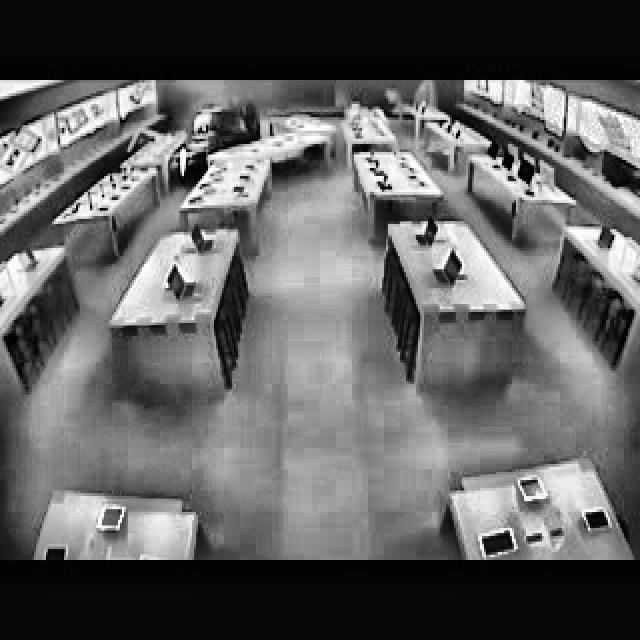burglary: (159, 90, 276, 200)
